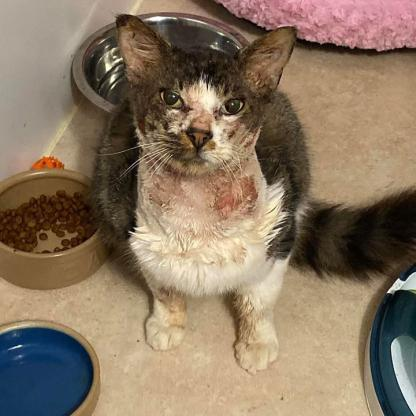cat: (109, 0, 322, 370)
injured: (195, 162, 269, 235)
